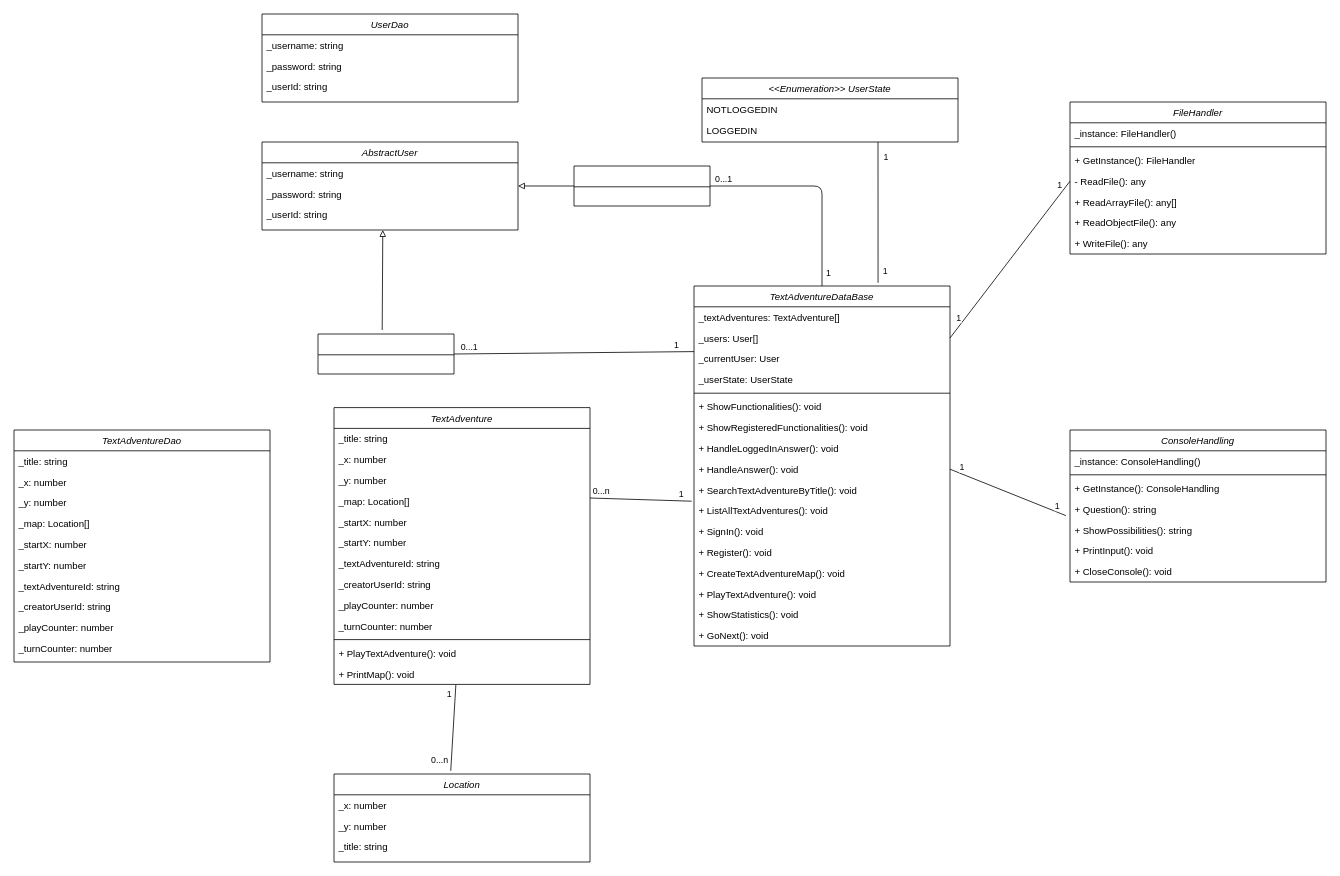
Image size: 1340x876. Some labels were removed from this diagram. Here are the shapes that lost their labels. From the top down, the centre of each, then its label:
At (x=641, y=185): "NullUser".
At (x=385, y=353): "User".
